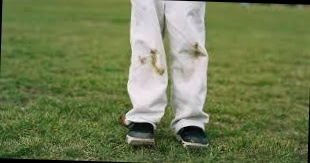earth: (191, 41, 202, 59), (150, 50, 156, 65), (156, 68, 164, 75)
